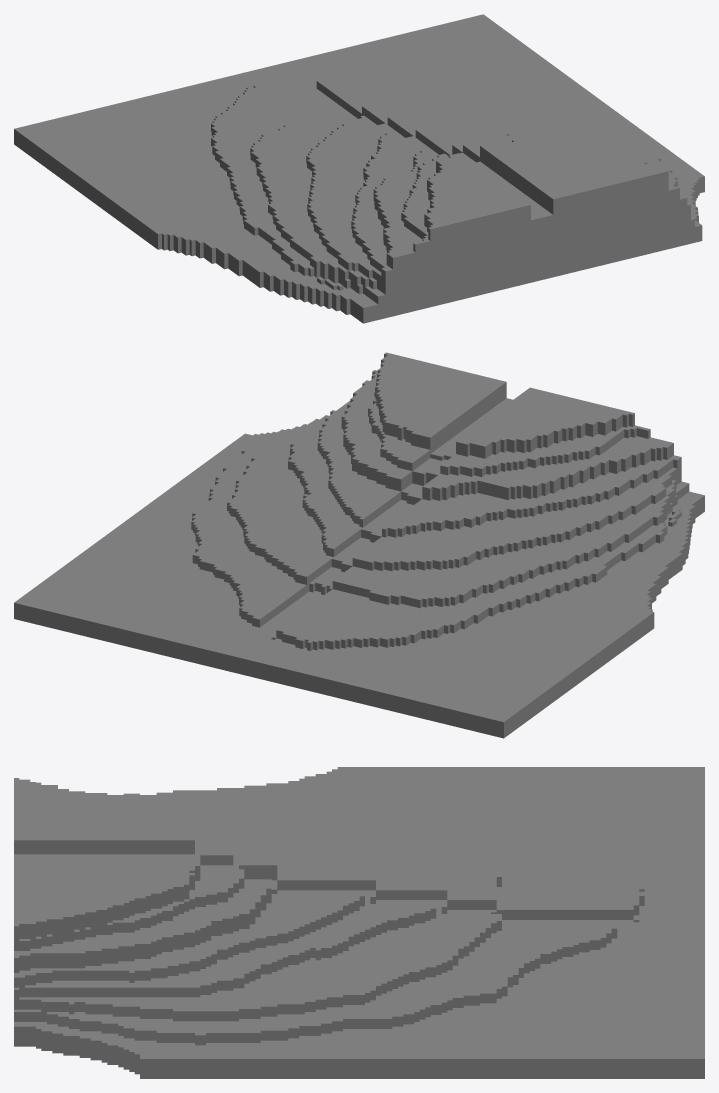
File: Main Island-3.obj
The picture shows the model from 3 angles, top to bottom: view 1: azimuth 30°, elevation 25°; view 2: azimuth 150°, elevation 25°; view 3: azimuth 270°, elevation 25°; orthographic projection. The views are drawn at different scales.
Parts seen in each view (by area): view 1: Main Island-1; view 2: Main Island-1; view 3: Main Island-1.
Boxes of the visible parts, left/top/right/bottom form: Main Island-1: left=14, top=14, right=704, bottom=323; Main Island-1: left=14, top=352, right=704, bottom=738; Main Island-1: left=14, top=767, right=704, bottom=1078.
Size of the model in its own units: 126 by 20 by 126.
1 material, 1 textured.
